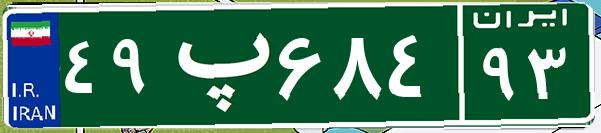3: (525, 38, 570, 115)
4: (385, 28, 445, 110), (57, 26, 110, 107)
6: (273, 28, 330, 110)
8: (330, 28, 385, 110)
9: (475, 38, 525, 113), (110, 28, 158, 105)
پ: (158, 15, 273, 115)
